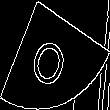O_NE: (32, 23, 78, 87)
